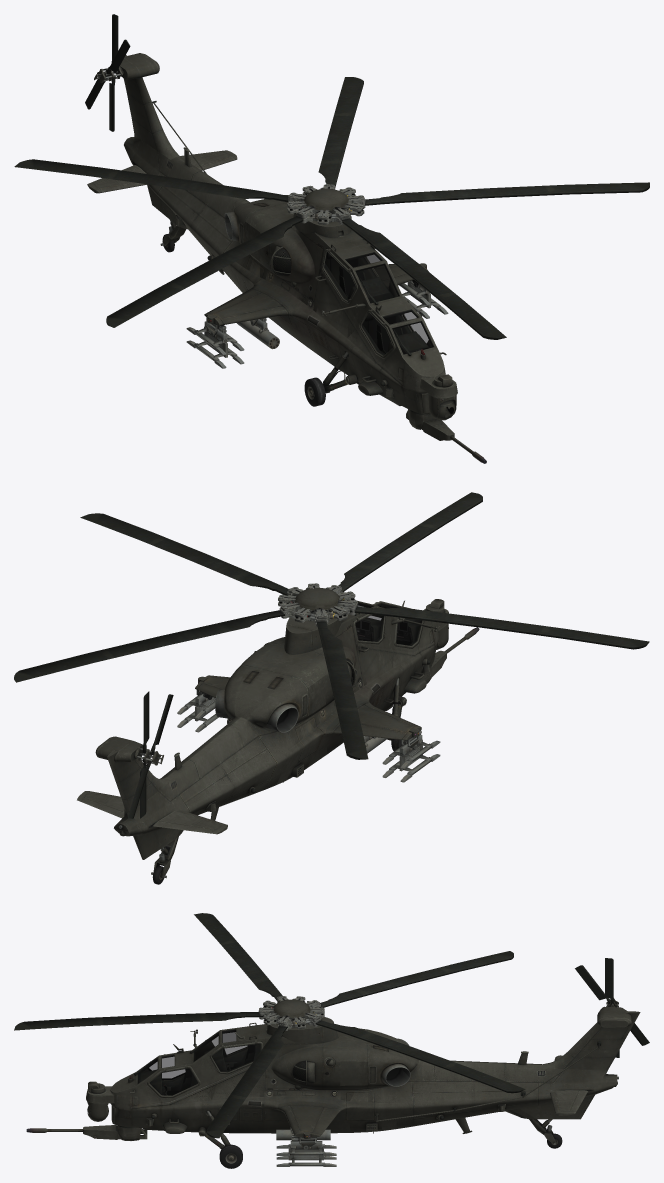
File: heli_z10.glb
The picture shows the model from 3 angles, top to bottom: view 1: azimuth 30°, elevation 25°; view 2: azimuth 150°, elevation 25°; view 3: azimuth 270°, elevation 25°; orthographic projection. The views are drawn at different scales.
Parts seen in each view (by area): view 1: Object_2, Object_7, Object_3, Object_8, Object_4, Object_11, Object_6, Object_5; view 2: Object_7, Object_2, Object_3, Object_8, Object_4, Object_6, Object_5, Object_11; view 3: Object_8, Object_2, Object_6, Object_7, Object_3, Object_4, Object_5, Object_11.
Boxes of the visible parts, x1,y1,x2,y2 form: Object_2: (14, 77, 649, 418); Object_7: (120, 53, 457, 414); Object_3: (85, 14, 455, 420); Object_8: (123, 77, 454, 414); Object_4: (87, 67, 486, 463); Object_11: (324, 252, 453, 417); Object_6: (148, 101, 451, 419); Object_5: (147, 150, 448, 397); Object_7: (95, 600, 448, 878); Object_2: (14, 492, 649, 783); Object_3: (128, 588, 446, 818); Object_8: (107, 600, 448, 823); Object_4: (77, 583, 479, 884); Object_6: (141, 613, 439, 858); Object_5: (133, 592, 440, 878); Object_11: (356, 602, 422, 645); Object_8: (86, 1012, 640, 1136); Object_2: (14, 913, 591, 1138); Object_6: (114, 1022, 620, 1152); Object_7: (86, 1006, 639, 1163); Object_3: (87, 958, 649, 1168); Object_4: (26, 998, 618, 1148); Object_5: (276, 996, 594, 1166); Object_11: (87, 1029, 260, 1114).
Size of what is drawn, in the model's own units: 530 by 200 by 634.
2 materials, 1 textured.
